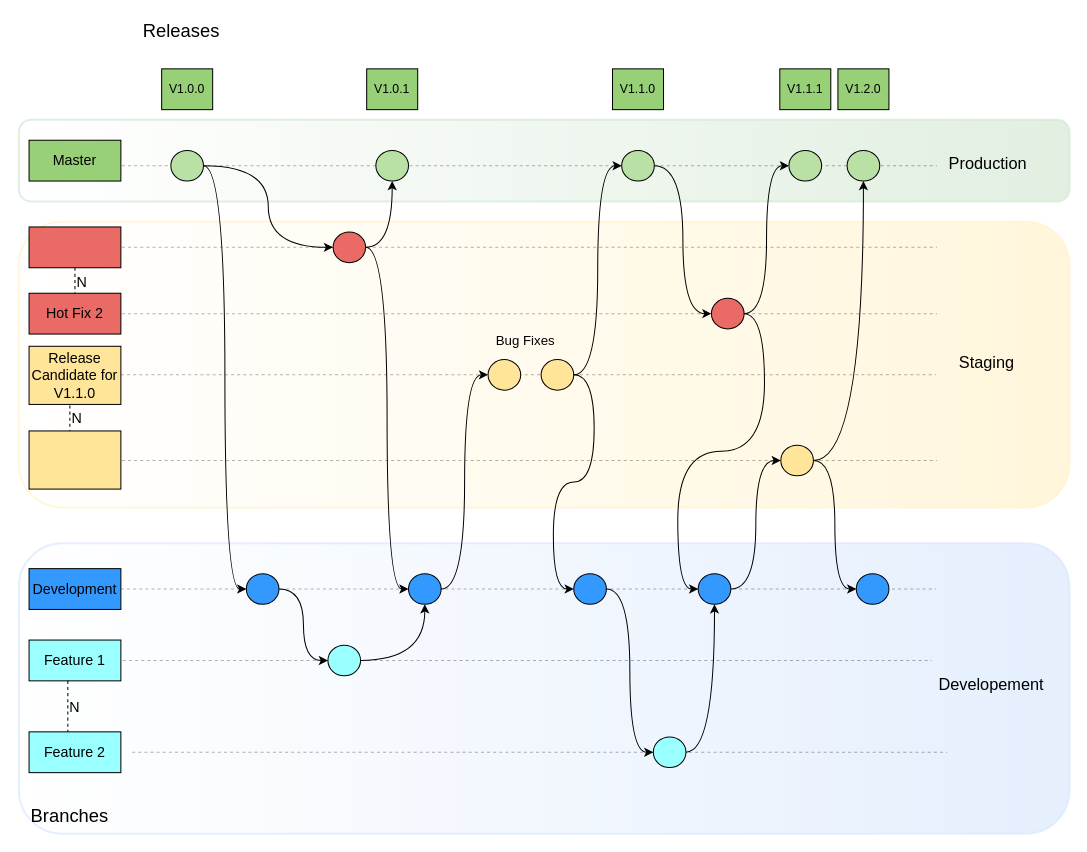
Image size: 1087x852. Some labels were removed from this diagram. The box of each missing label's shape, as (x1, y1, x2, y2) in pixels:
Hot Fix 1: (28, 226, 121, 268)
Release Candidate for V1.2.0: (28, 430, 121, 489)
